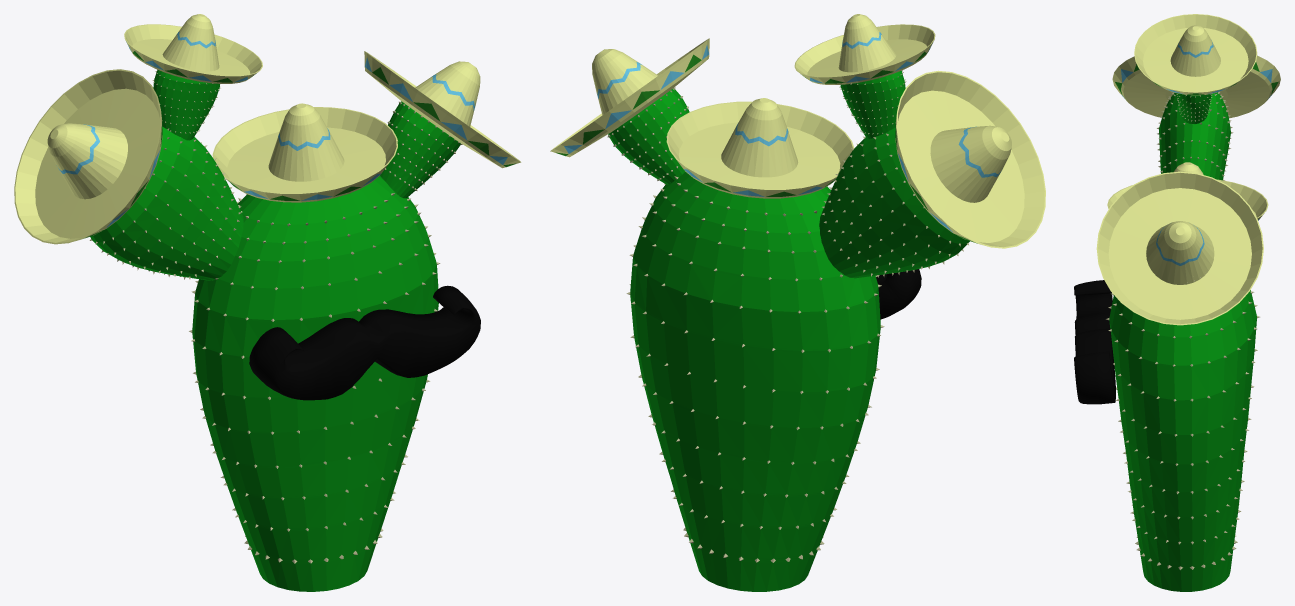
File: cactus bandit 2.fbx
3 renders of one model, left to right at view 1: azimuth 30°, elevation 25°; view 2: azimuth 150°, elevation 25°; view 3: azimuth 270°, elevation 25°, orthographic. The views are drawn at different scales.
Parts seen in each view (by area): view 1: cactus bandit 2; view 2: cactus bandit 2; view 3: cactus bandit 2.
Part boxes in pixels (box(x1,y1,x2,y2)): cactus bandit 2: box(14, 14, 521, 591); cactus bandit 2: box(550, 14, 1045, 591); cactus bandit 2: box(1074, 14, 1280, 591).
Bounding box in the file's own units: 651 × 775 × 291.
